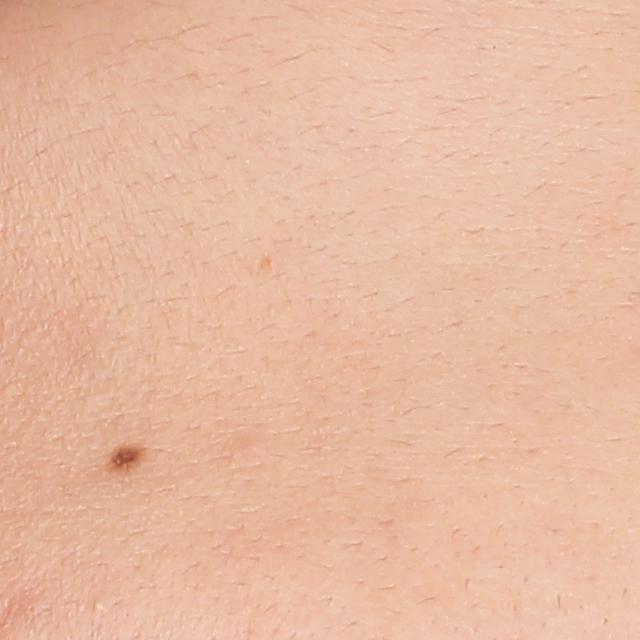comedo: (89, 596, 108, 614)
nevus: (103, 441, 149, 471)
